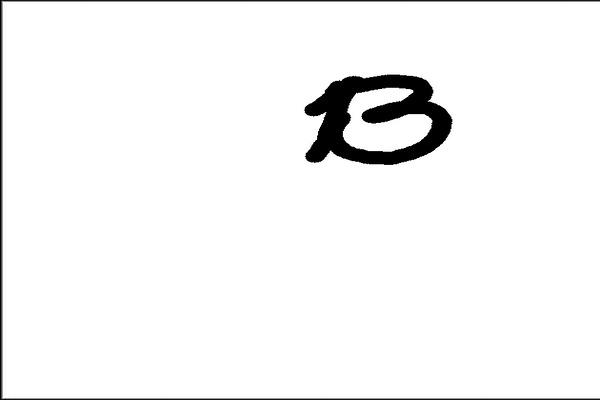B: (296, 63, 459, 179)
